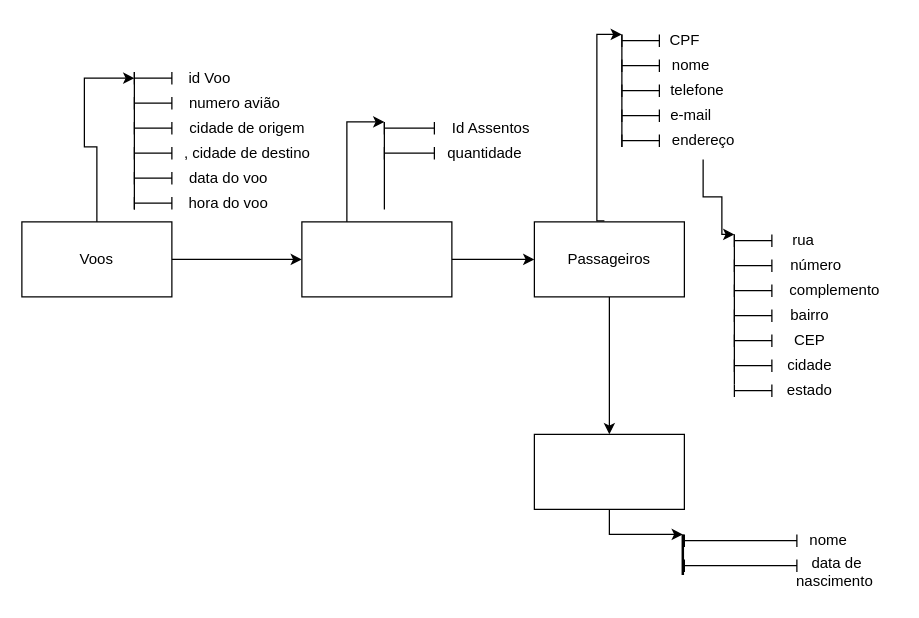
This 919x618 diagram has some shape labels left out. The centre of each missing label's shape, as x and y in pixels:
"Assentos" goes at pixel 376 259.
"Dependente" goes at pixel 608 471.
